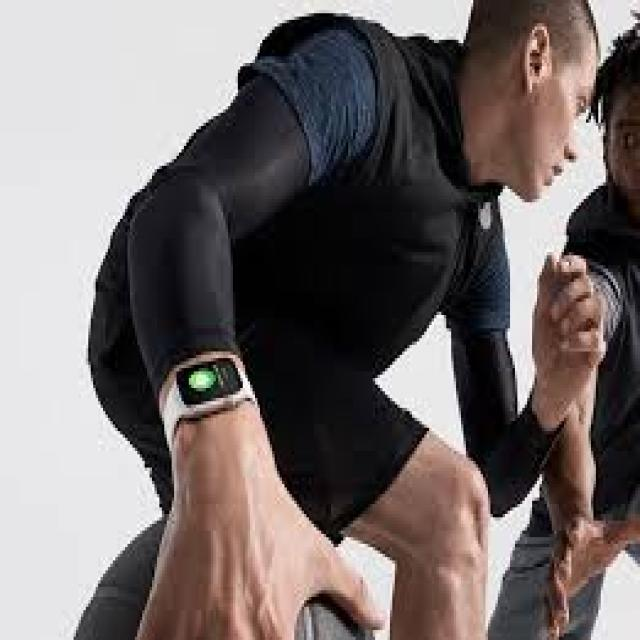watch: (141, 329, 265, 443)
